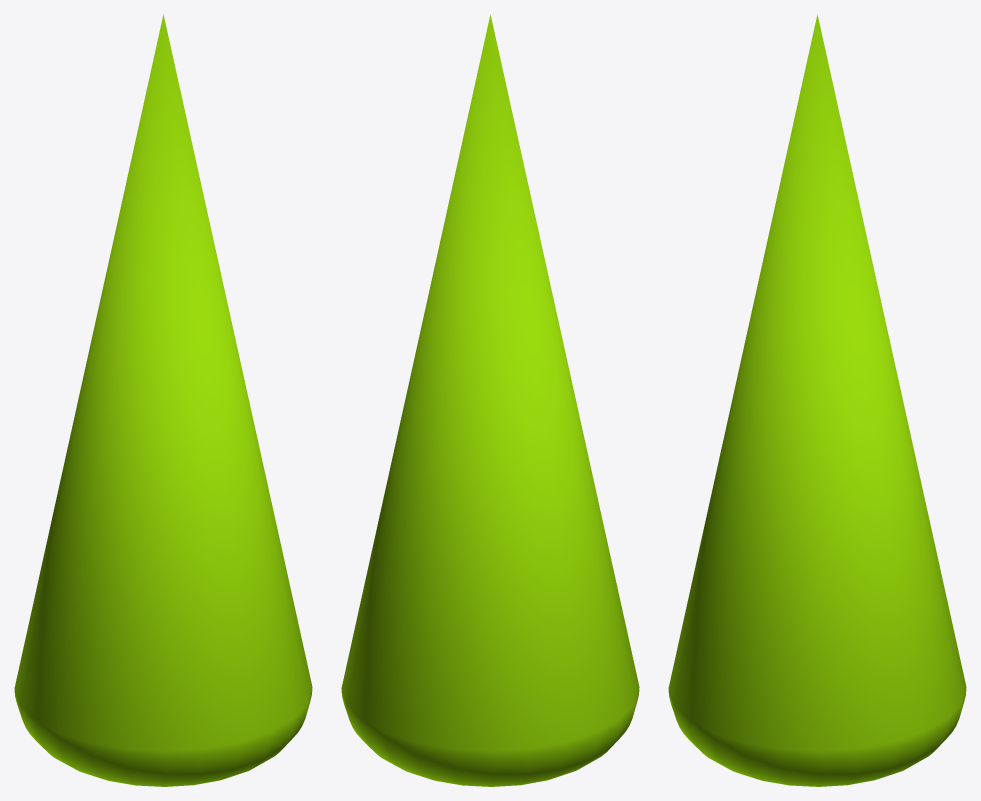
The model's file is HPK14m.glb.
3 views of the same model, side by side, from view 1: azimuth 30°, elevation 25°; view 2: azimuth 150°, elevation 25°; view 3: azimuth 270°, elevation 25° (orthographic).
Parts seen in each view (by area): view 1: HPK14m; view 2: HPK14m; view 3: HPK14m.
Part boxes in pixels (box(x1,y1,x2,y2)): HPK14m: box(14, 14, 312, 786); HPK14m: box(341, 14, 639, 786); HPK14m: box(668, 14, 966, 786).
Size of the model in its own units: 5.01 by 14 by 5.01.
